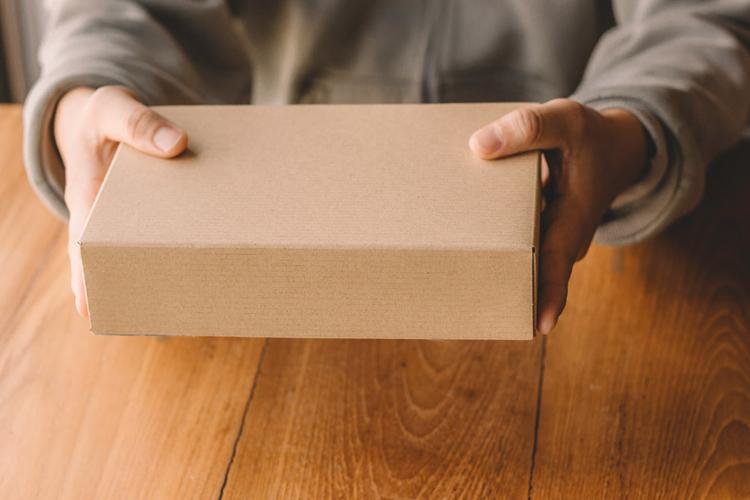no-phone: (54, 81, 634, 342)
